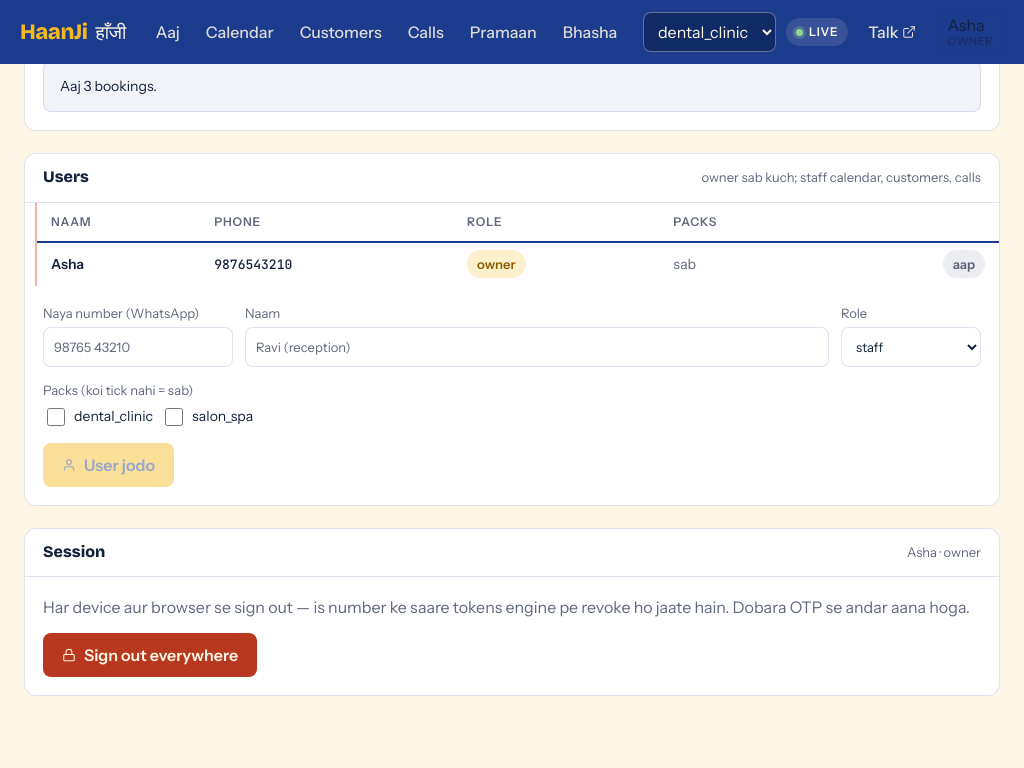
Test: settings › signs out everywhere through the engine and forgets the token
(page scrolled)
Step 1. Click the button "Sign out everywhere" → (150, 655), box left=43, top=633, right=257, bottom=677
(page scrolled)
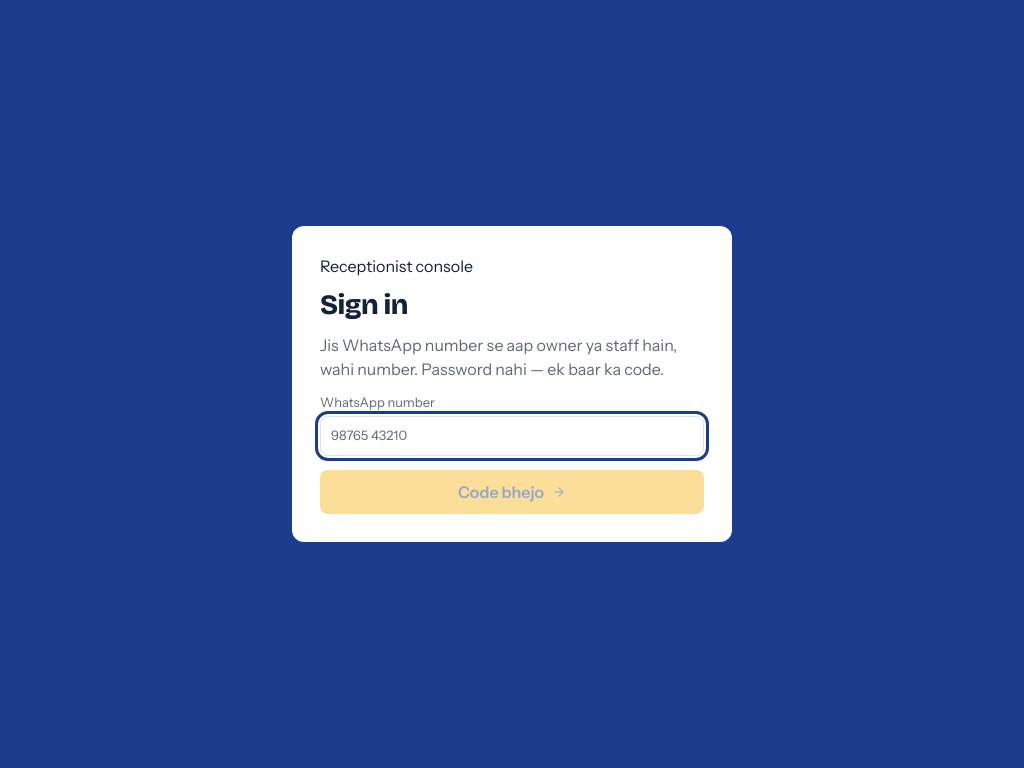
Now the heading "Sign in" is shown, box left=320, top=288, right=408, bottom=322
